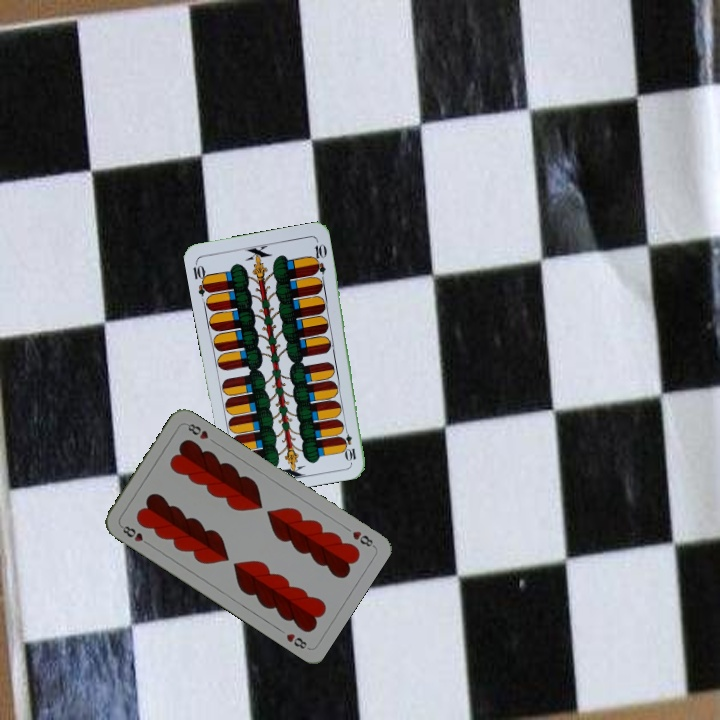E10: (189, 258, 213, 298), (339, 423, 359, 463)
H8: (117, 521, 153, 548), (348, 527, 377, 549)
